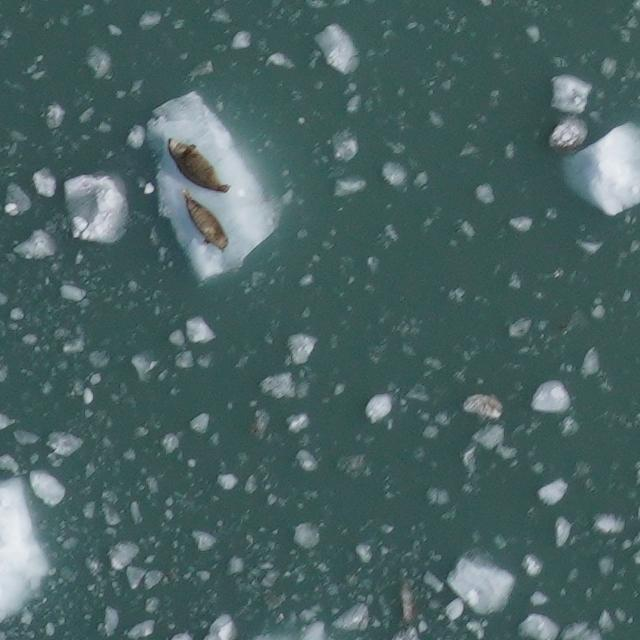seal: (164, 134, 236, 195), (177, 185, 234, 258)
